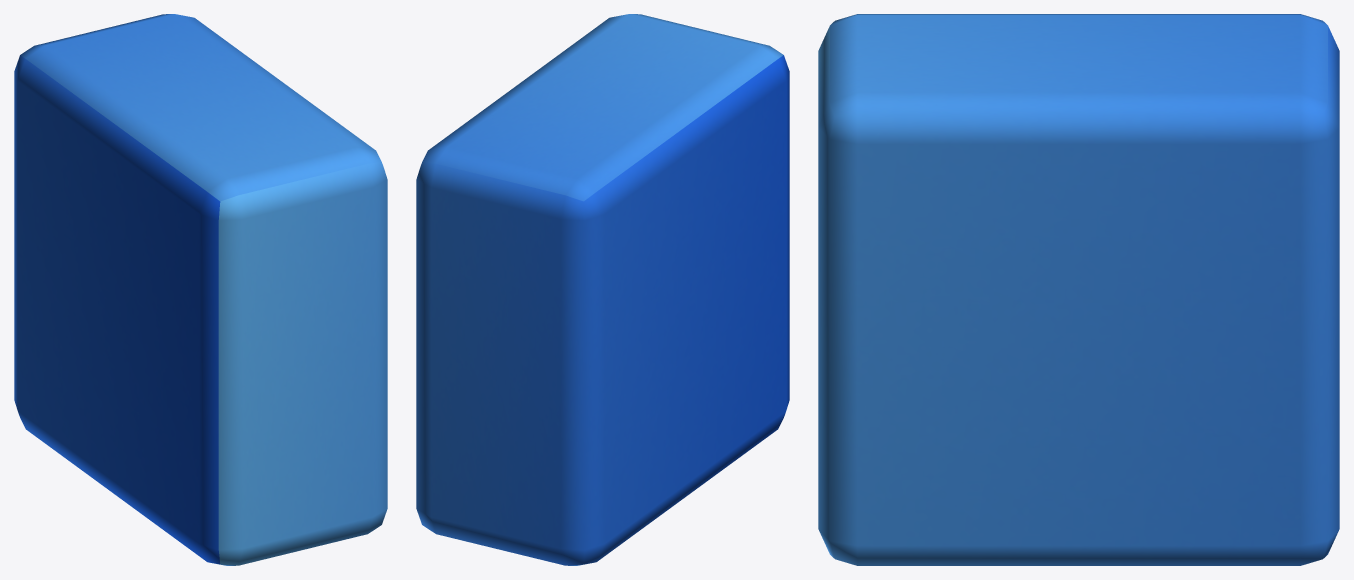
Rendered from BlockSlabBlue.fbx.
The picture shows the model from 3 angles, left to right: view 1: azimuth 30°, elevation 25°; view 2: azimuth 150°, elevation 25°; view 3: azimuth 270°, elevation 25°; orthographic projection. The views are drawn at different scales.
Visible parts, largest first — view 1: Cube.012; view 2: Cube.012; view 3: Cube.012.
Part boxes in pixels (bbox=[...]): Cube.012: bbox=[14, 14, 387, 565]; Cube.012: bbox=[416, 14, 789, 565]; Cube.012: bbox=[818, 14, 1339, 565].
Bounding box in the file's own units: 100 × 200 × 200.
